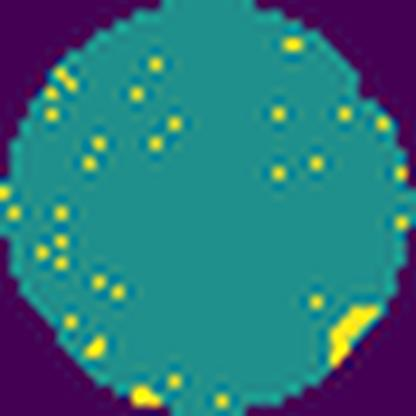Edge-Loc: (318, 303, 386, 367), (130, 380, 170, 406)
